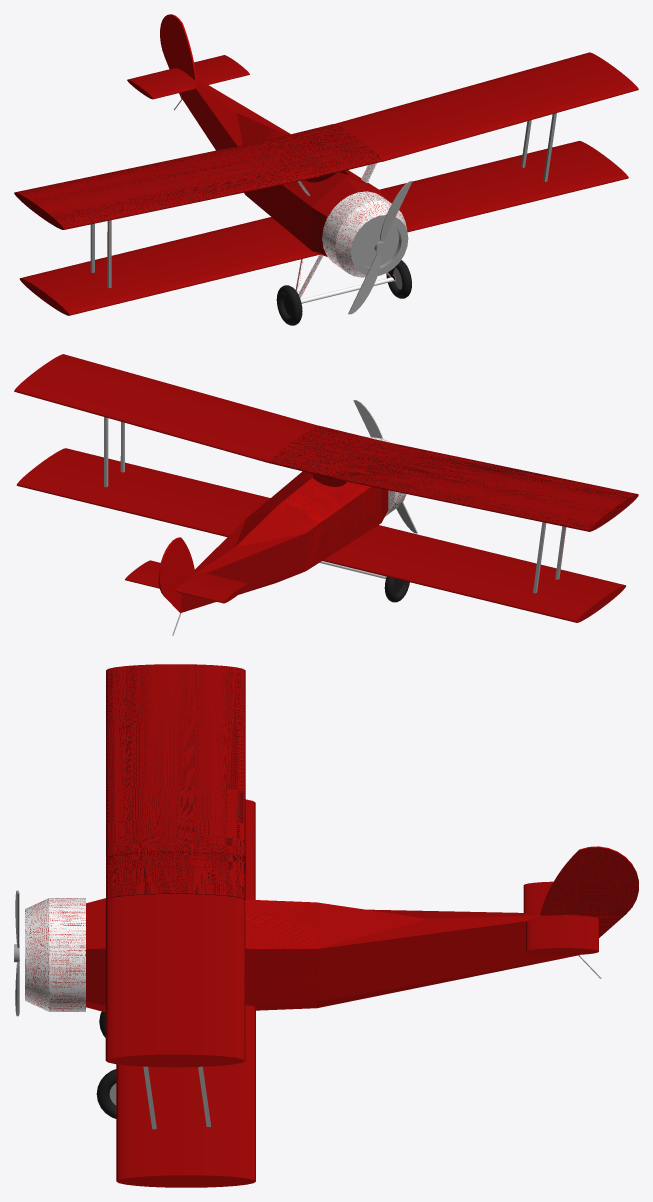
Rendered from biplane2.obj.
3 views of the same model, one above another, from view 1: azimuth 30°, elevation 25°; view 2: azimuth 150°, elevation 25°; view 3: azimuth 270°, elevation 25° (orthographic). The views are drawn at different scales.
Bounding box in the file's own units: 8.35 × 2.37 × 5.65.
